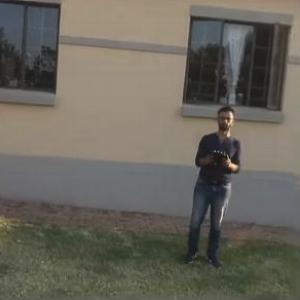follow: (182, 101, 244, 276)
